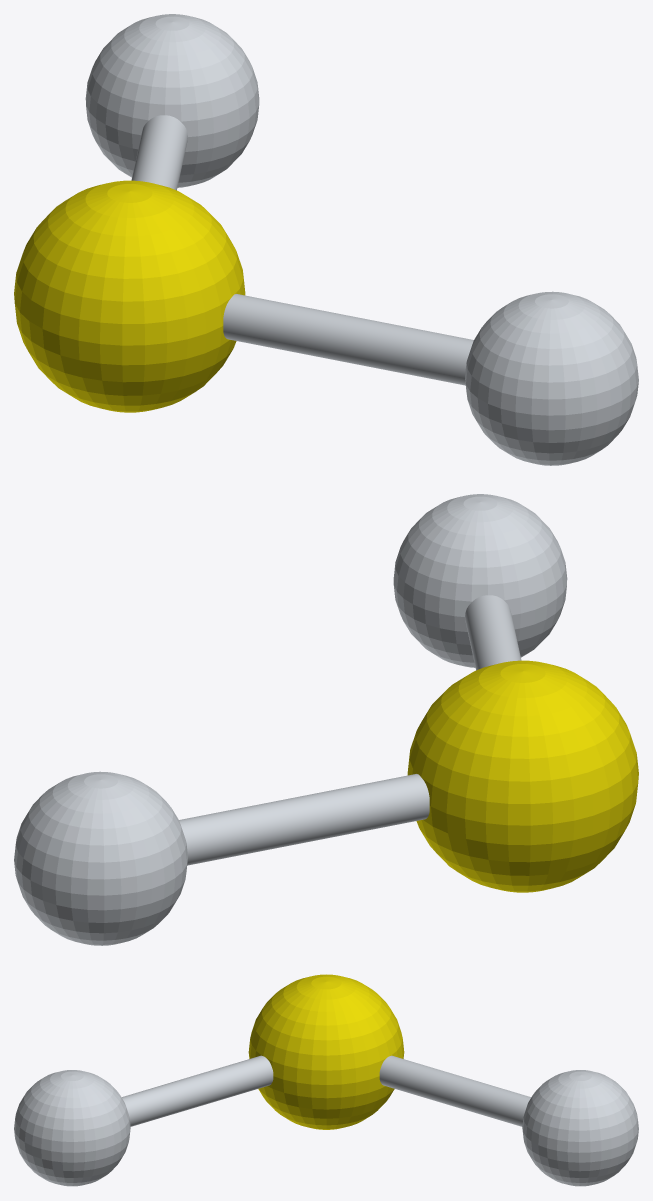
Rendered from hydrogen_sulfide.fbx.
3 renders of one model, top to bottom at view 1: azimuth 30°, elevation 25°; view 2: azimuth 150°, elevation 25°; view 3: azimuth 270°, elevation 25°, orthographic. The views are drawn at different scales.
Parts seen in each view (by area): view 1: hydrogen_sulfide; view 2: hydrogen_sulfide; view 3: hydrogen_sulfide.
Part boxes in pixels (bbox=[...]): hydrogen_sulfide: bbox=[14, 14, 638, 465]; hydrogen_sulfide: bbox=[14, 494, 638, 945]; hydrogen_sulfide: bbox=[14, 974, 638, 1186].
Size of the model in its own units: 81.18 by 40 by 161.
